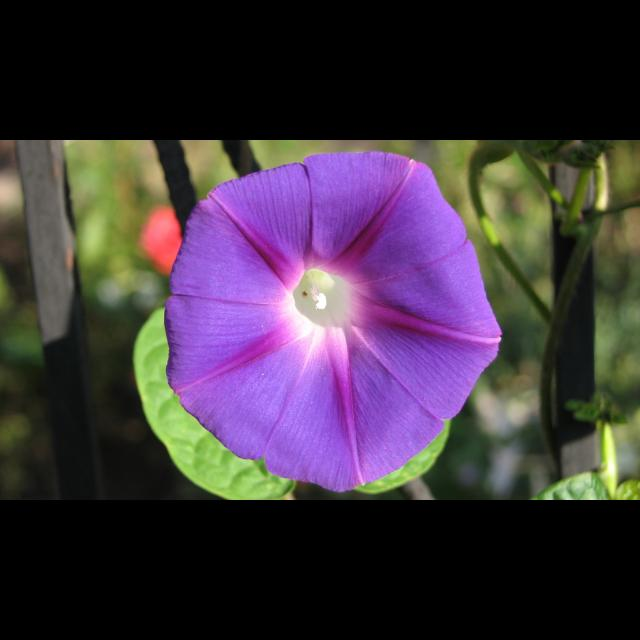Flower: (146, 140, 509, 488)
